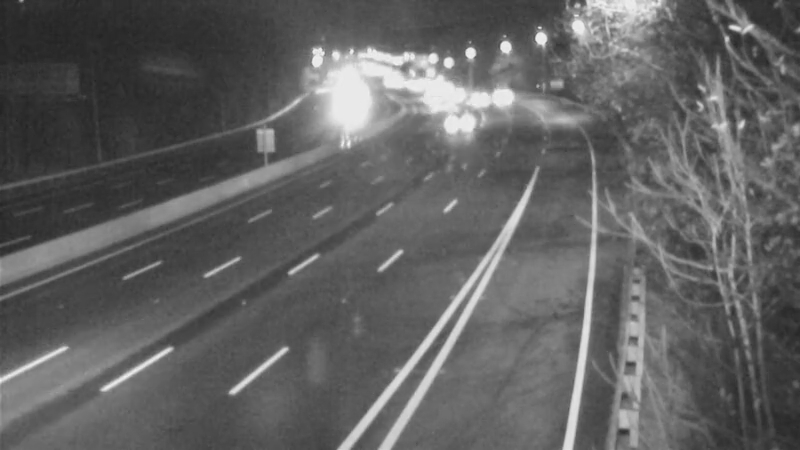vehicle: (476, 72, 526, 122), (405, 73, 455, 123), (444, 71, 494, 121), (414, 78, 464, 128), (436, 99, 486, 149)
